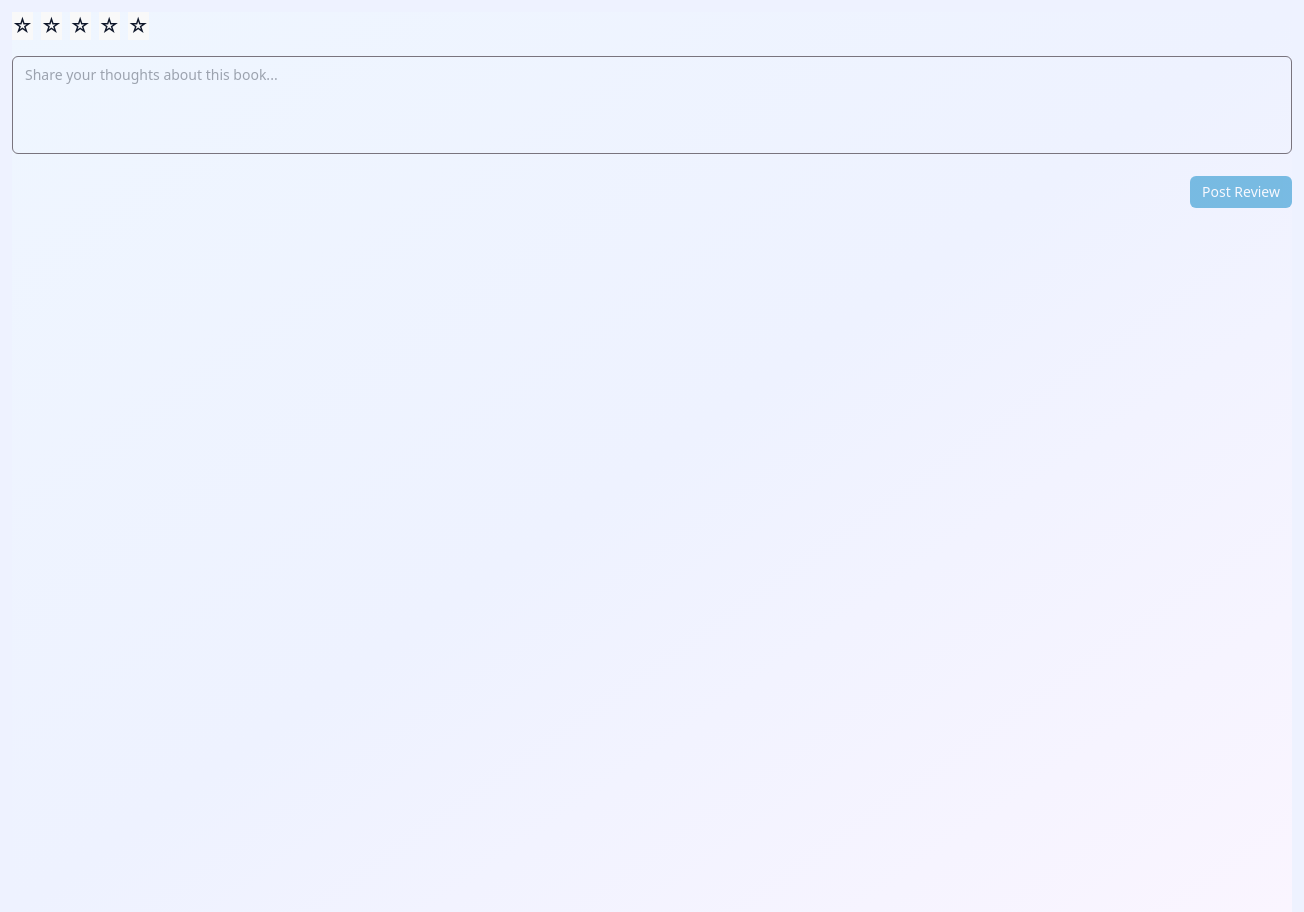
Test: ReviewForm - Coverage Tests › covers both rating and content validation success
The width and height of the screenshot is (1304, 912).
# Set rating
Click the 1st button "☆" at (22, 26), box [12,12,33,40]
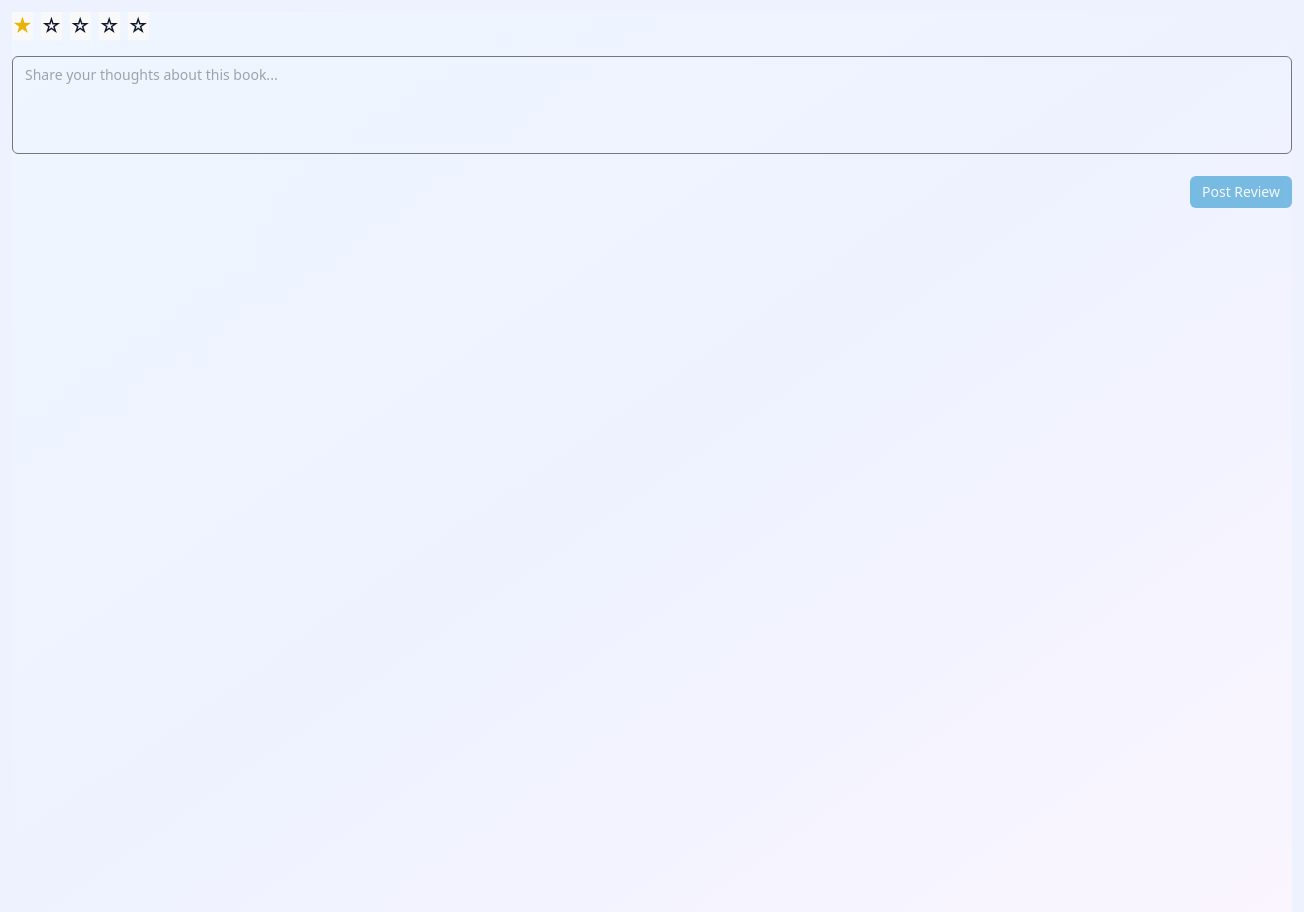
# Set content
Type "Great book!" into the text box at (652, 105), box [12,56,1292,154]
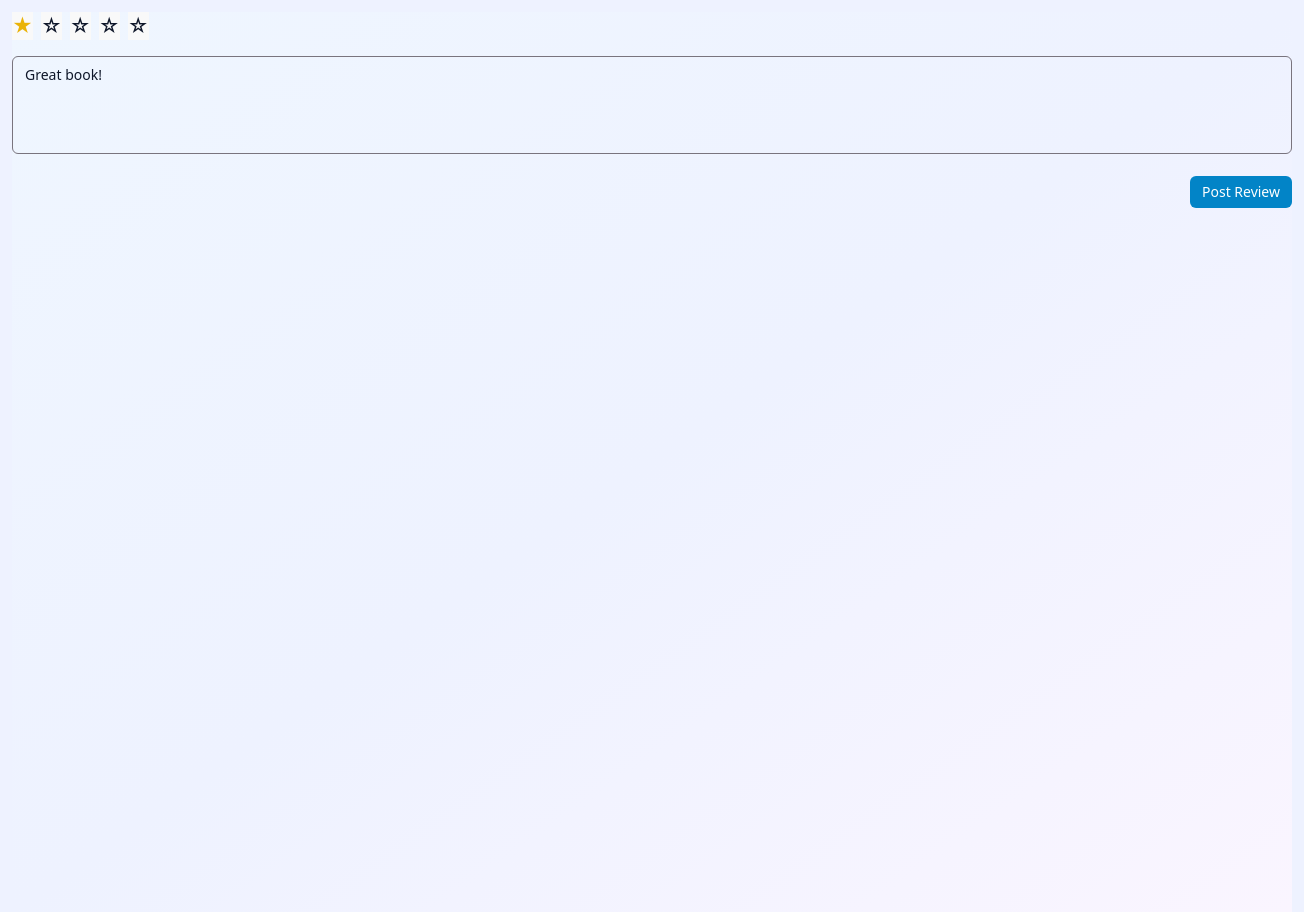
Check: the button "Post Review" is enabled, box [1190,176,1292,208]
